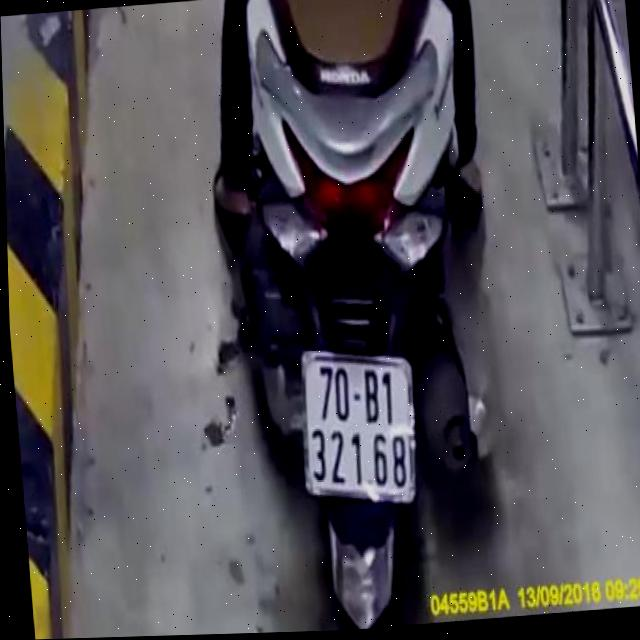motorcycle: (210, 0, 510, 634)
plate: (292, 339, 428, 519)
